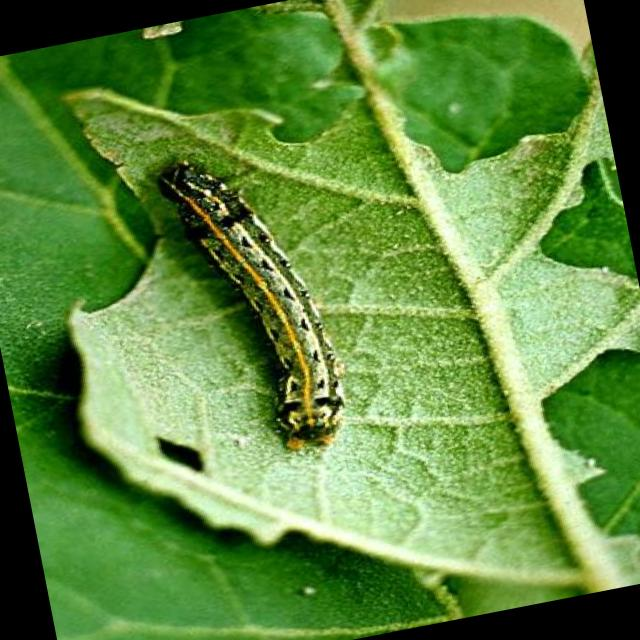Armyworm: (147, 124, 366, 501)
Armyworm_damage: (131, 408, 222, 497)
